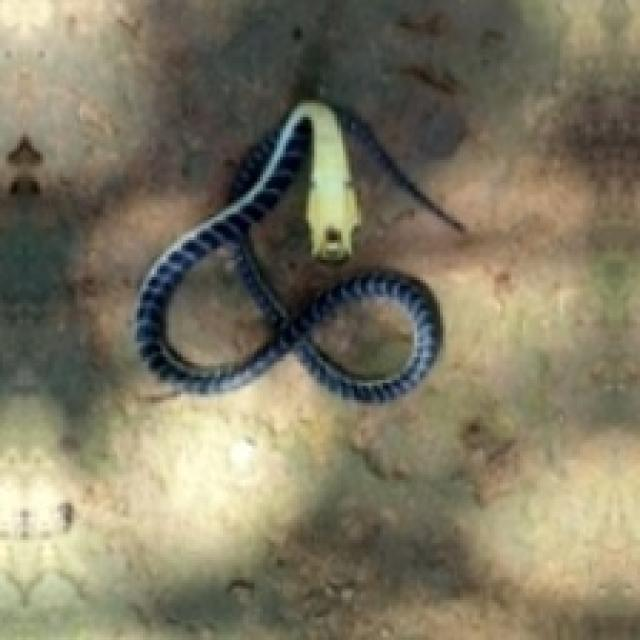king cobra: (137, 100, 460, 400), (166, 246, 274, 366), (309, 297, 411, 374)
